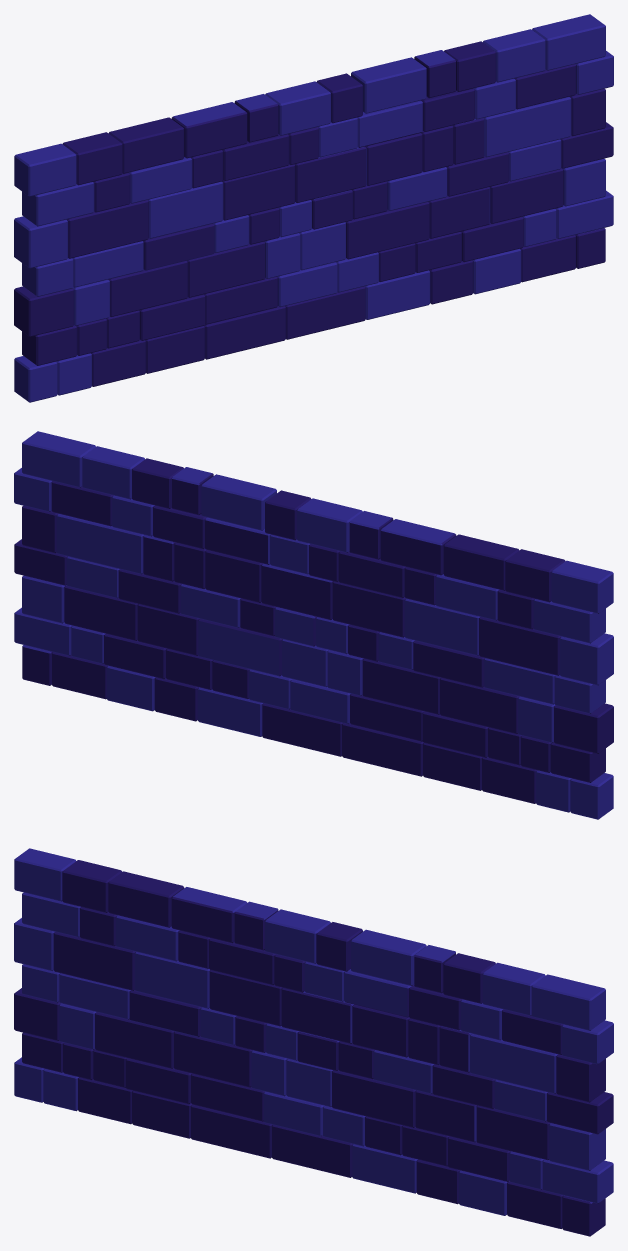
The model's file is wall.fbx.
3 renders of one model, top to bottom at view 1: azimuth 30°, elevation 25°; view 2: azimuth 150°, elevation 25°; view 3: azimuth 330°, elevation 25°, orthographic.
Visible parts, largest first — view 1: Wall.067, Wall.060, Wall.043, Wall.039, Wall.061, Wall.040, Wall.089, Wall.088, Wall.062, Wall.063, Wall.018, Wall.081 (+67 smaller); view 2: Wall.067, Wall.060, Wall.043, Wall.039, Wall.061, Wall.040, Wall.089, Wall.088, Wall.062, Wall.063, Wall.018, Wall.081 (+67 smaller); view 3: Wall.067, Wall.060, Wall.043, Wall.085, Wall.039, Wall.061, Wall.040, Wall.081, Wall.089, Wall.062, Wall.063, Wall.088 (+67 smaller).
Part boxes in pixels (box(x1,y1,x2,y2)): Wall.067: box(483, 97, 571, 157); Wall.060: box(66, 200, 148, 258); Wall.043: box(345, 202, 429, 259); Wall.039: box(108, 260, 187, 316); Wall.061: box(148, 181, 223, 238); Wall.040: box(187, 241, 265, 297); Wall.089: box(351, 57, 426, 113); Wall.088: box(171, 102, 247, 158); Wall.062: box(222, 164, 295, 220); Wall.063: box(295, 146, 366, 202); Wall.018: box(204, 306, 285, 359); Wall.081: box(108, 117, 184, 173); Wall.067: box(56, 514, 144, 574); Wall.060: box(479, 617, 561, 675); Wall.043: box(198, 619, 282, 676); Wall.039: box(440, 677, 519, 733); Wall.061: box(404, 598, 479, 655); Wall.040: box(362, 658, 440, 714); Wall.089: box(201, 474, 276, 530); Wall.088: box(380, 519, 456, 575); Wall.062: box(332, 581, 405, 637); Wall.063: box(261, 563, 332, 619); Wall.018: box(342, 723, 423, 776); Wall.081: box(443, 534, 519, 590); Wall.067: box(470, 1033, 557, 1093); Wall.060: box(53, 932, 135, 990); Wall.043: box(332, 1070, 416, 1127); Wall.085: box(531, 974, 605, 1030); Wall.039: box(95, 1012, 174, 1068); Wall.061: box(135, 951, 210, 1008); Wall.040: box(174, 1031, 252, 1087); Wall.081: box(108, 871, 184, 927); Wall.089: box(351, 929, 426, 985); Wall.062: box(209, 970, 282, 1026); Wall.063: box(281, 988, 353, 1043); Wall.088: box(171, 887, 247, 943).
Size of the model in its own units: 4478 by 1746 by 219.
